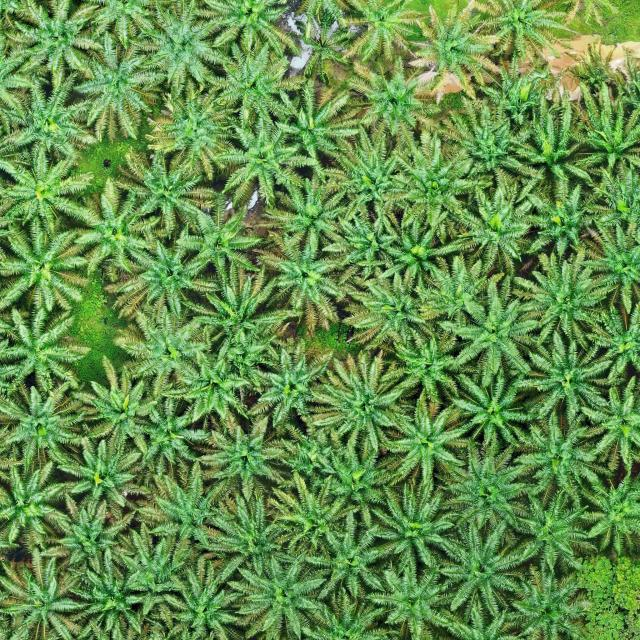Tree: (440, 275, 550, 391), (385, 127, 497, 240), (186, 259, 309, 358), (67, 31, 165, 146), (68, 351, 170, 459), (0, 213, 99, 323), (436, 518, 542, 620), (204, 116, 320, 208), (123, 0, 230, 98), (50, 420, 152, 521), (0, 66, 97, 172), (428, 439, 533, 536), (507, 332, 610, 430), (144, 77, 240, 182), (374, 400, 474, 500), (0, 145, 102, 243), (306, 355, 404, 457), (105, 234, 216, 324), (67, 176, 164, 276), (111, 299, 212, 395), (434, 97, 544, 184), (341, 267, 447, 357), (255, 235, 353, 332), (226, 549, 330, 640), (107, 520, 192, 631), (509, 250, 606, 346), (341, 52, 443, 142), (255, 168, 354, 260), (243, 334, 334, 434), (111, 151, 211, 241), (509, 96, 597, 198), (323, 120, 409, 224), (131, 459, 232, 547), (359, 486, 457, 576), (1, 0, 104, 85), (508, 412, 616, 493), (0, 302, 93, 396), (407, 0, 502, 92), (209, 39, 309, 126), (195, 410, 289, 502), (272, 77, 366, 166), (382, 323, 478, 410), (0, 375, 87, 468), (418, 253, 513, 338), (518, 171, 607, 260), (468, 0, 588, 66), (516, 486, 602, 577), (366, 561, 464, 640), (452, 179, 538, 269), (161, 344, 252, 429), (43, 497, 140, 576), (156, 557, 248, 640), (498, 561, 594, 640), (211, 494, 299, 580), (318, 204, 407, 288), (174, 203, 268, 282), (317, 440, 401, 528), (441, 369, 531, 451), (566, 217, 640, 316), (374, 209, 463, 291), (567, 82, 640, 180), (569, 374, 640, 473), (60, 555, 142, 640), (0, 555, 82, 640), (133, 390, 211, 478), (266, 473, 344, 557), (304, 526, 388, 603), (326, 0, 431, 61), (0, 459, 66, 552), (574, 470, 640, 555), (289, 11, 356, 91), (576, 557, 640, 640), (472, 55, 548, 124)
